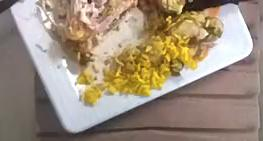rice: (81, 34, 206, 103)
